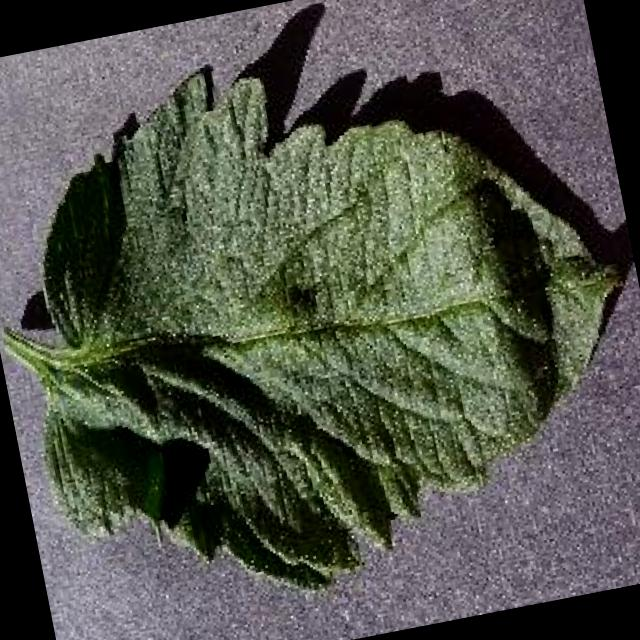healthy: (6, 59, 624, 592)
